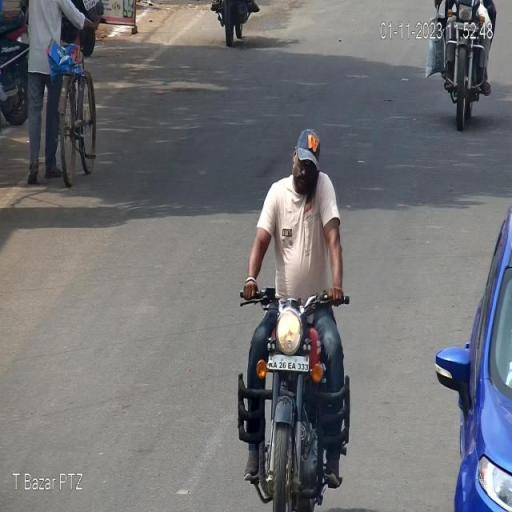using mobile: (294, 150, 322, 210)
